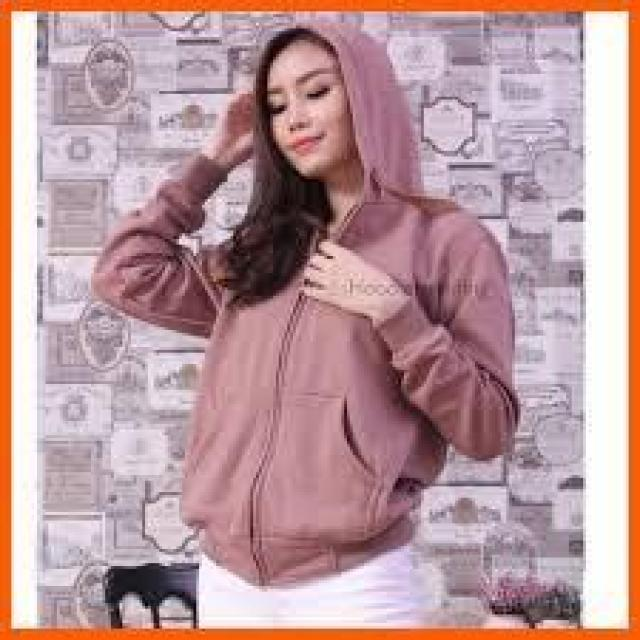sweater: (100, 19, 518, 573)
